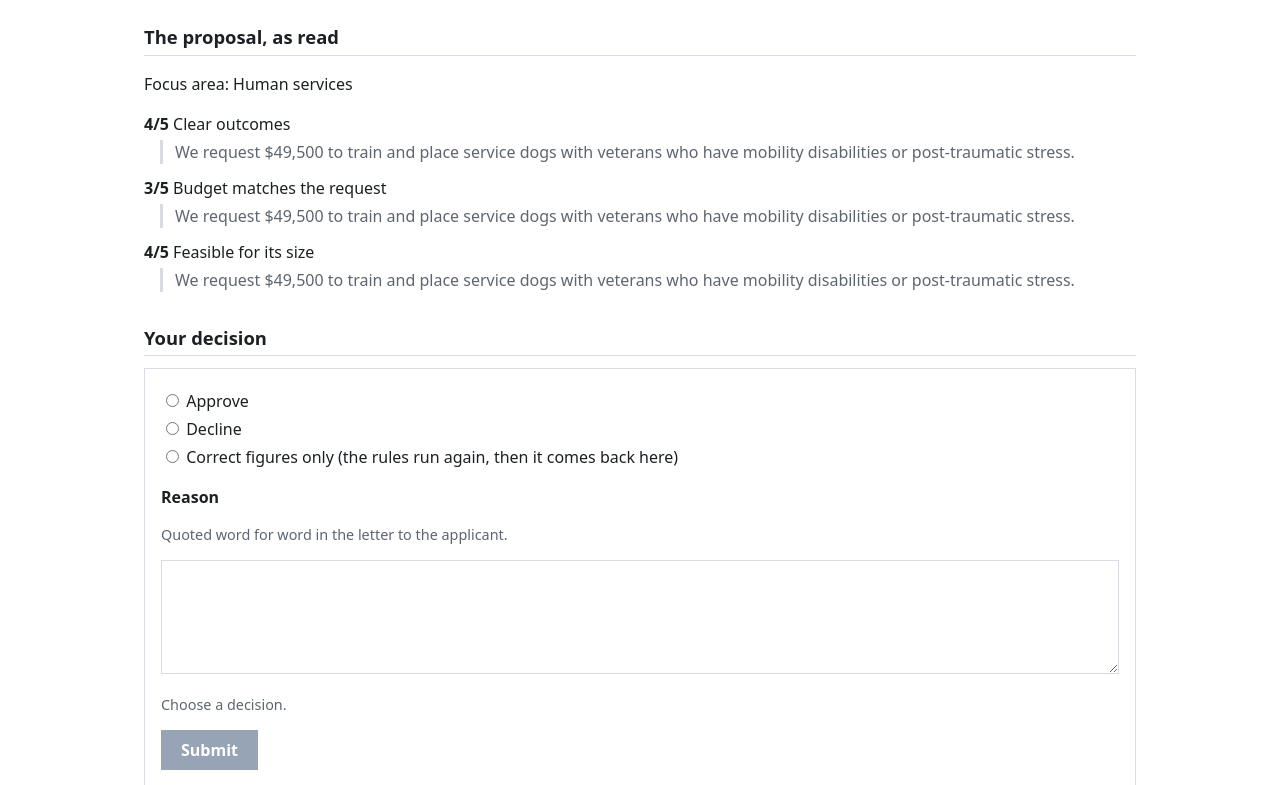
Test case: the fixtures are read-only and say how to decide locally
(page scrolled)
Click the radio button labelled "Approve": point(172, 401) [166, 394, 179, 407]
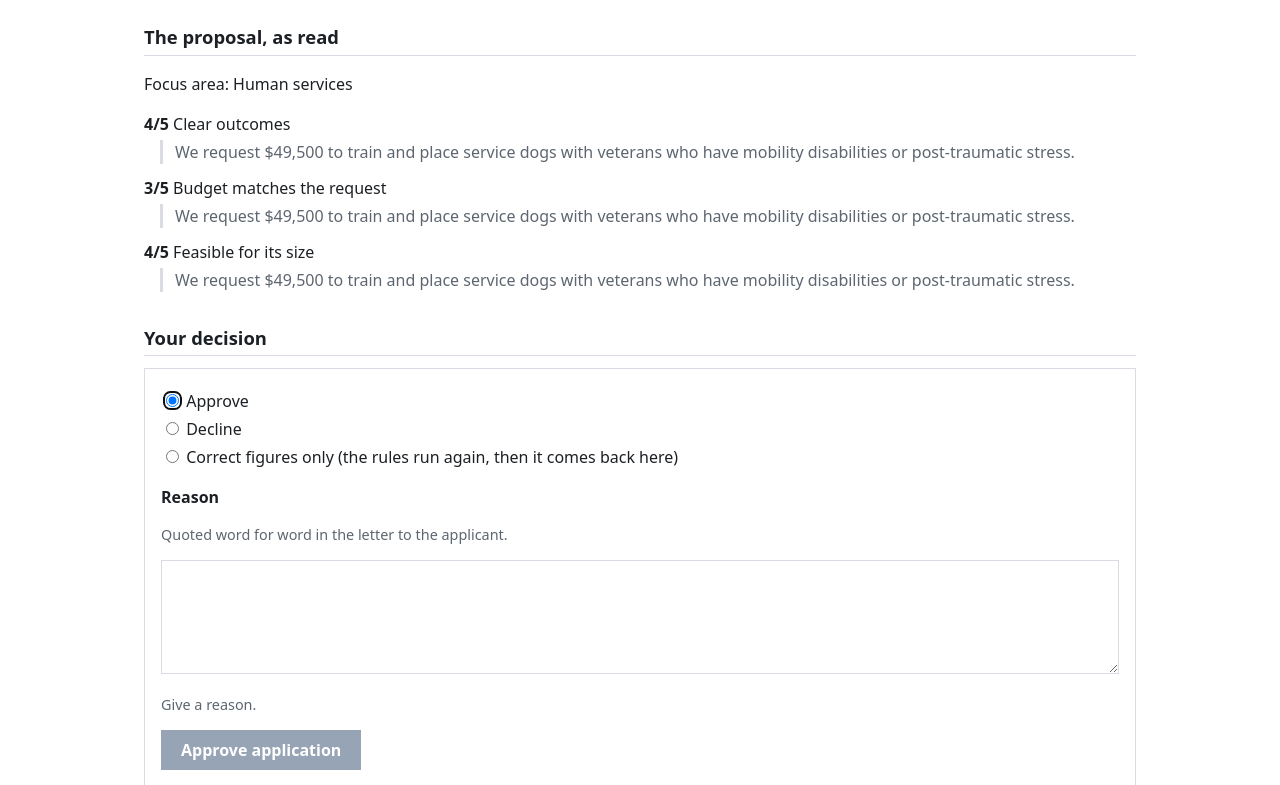
In the text box labelled "Reason": point(640, 617) [161, 560, 1119, 674], type "Fine."
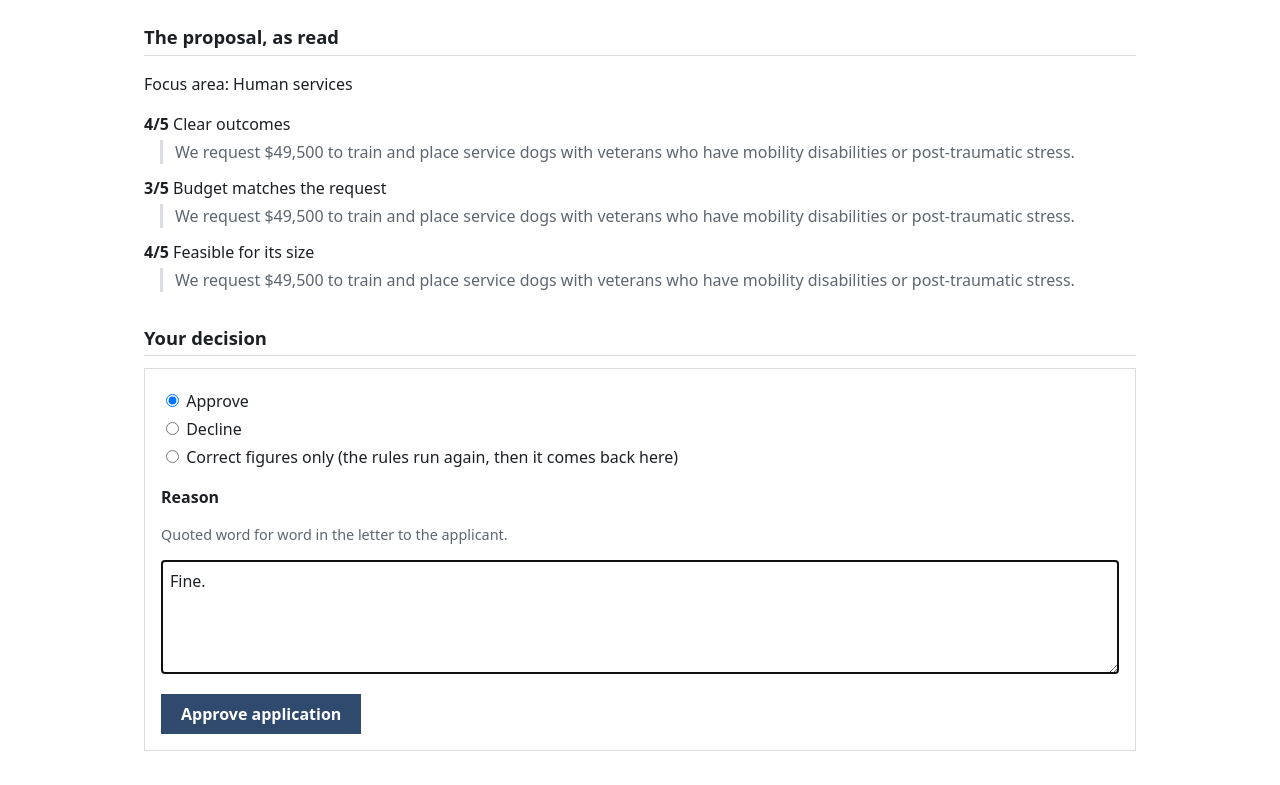
Click the button "Approve application": point(261, 714) [161, 694, 361, 734]
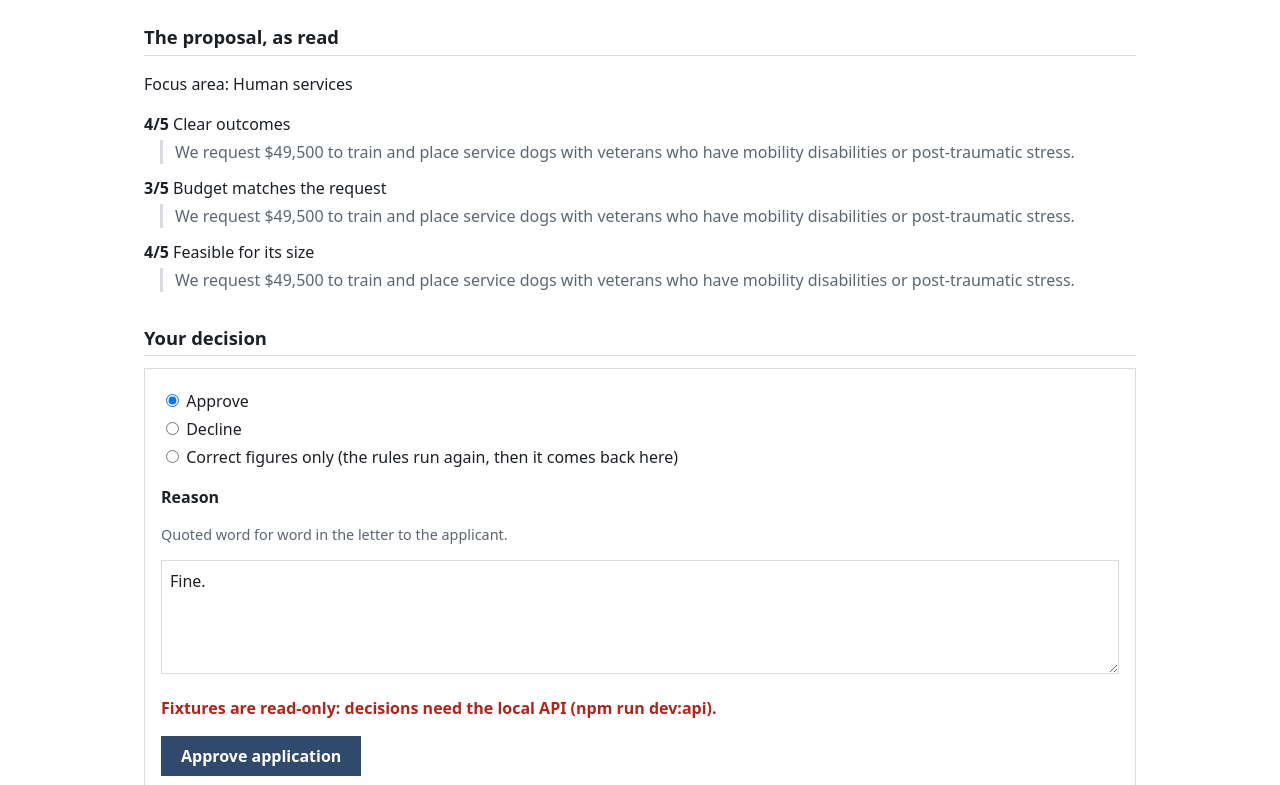
Expected: the message shows "npm run dev:api", [161, 697, 717, 719]
